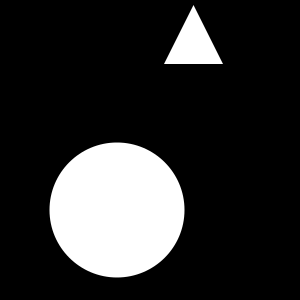rectangle: (50, 142, 184, 278), (123, 160, 144, 180)
triangle: (164, 5, 223, 64)
